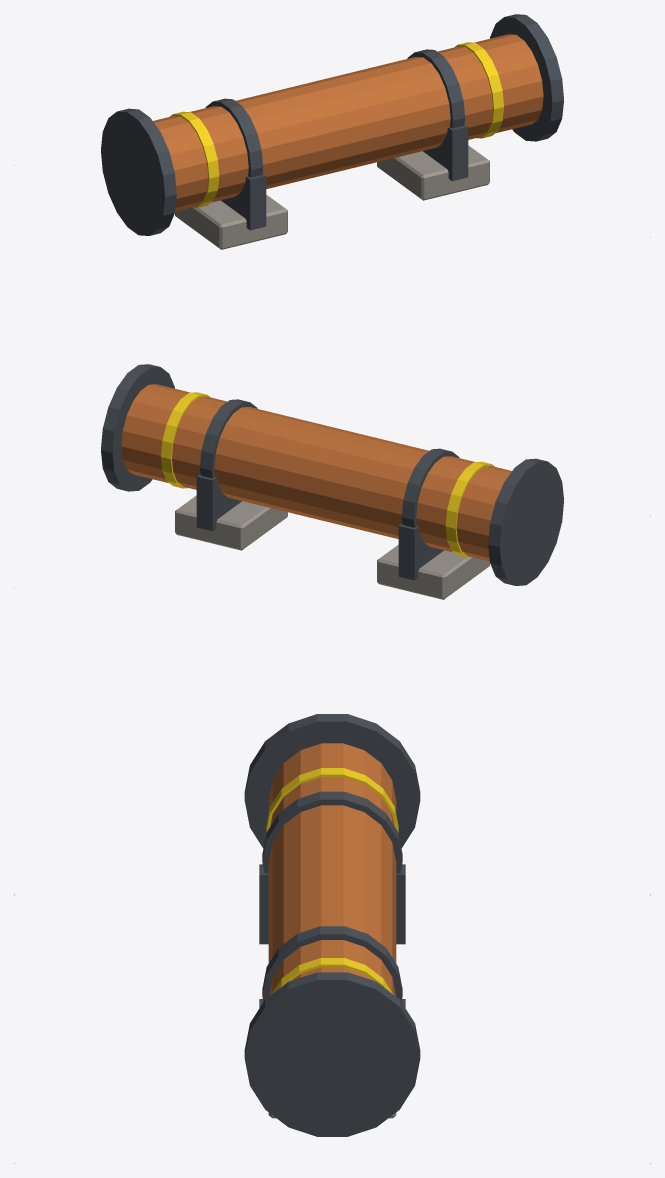
Rendered from tuyau_droit_t1.glb.
The picture shows the model from 3 angles, top to bottom: view 1: azimuth 30°, elevation 25°; view 2: azimuth 150°, elevation 25°; view 3: azimuth 270°, elevation 25°; orthographic projection. The views are drawn at different scales.
Visible parts, largest first — view 1: pieces_cuivre.016, pieces_acier_sombre.044, pieces_beton.044, pieces_rive_t1.014; view 2: pieces_cuivre.016, pieces_acier_sombre.044, pieces_beton.044, pieces_rive_t1.014; view 3: pieces_acier_sombre.044, pieces_cuivre.016, pieces_rive_t1.014.
Boxes of the visible parts, x1,y1,x2,y2 form: pieces_cuivre.016: (153,34,543,211); pieces_acier_sombre.044: (101,14,563,235); pieces_beton.044: (175,145,489,249); pieces_rive_t1.014: (170,42,503,207); pieces_cuivre.016: (121,384,511,561); pieces_acier_sombre.044: (101,364,563,585); pieces_beton.044: (175,495,489,599); pieces_rive_t1.014: (161,392,494,557); pieces_acier_sombre.044: (244,714,420,1136); pieces_cuivre.016: (268,743,396,995); pieces_rive_t1.014: (266,768,398,994).
Bounding box in the file's own units: 1 × 0.3159 × 1.
